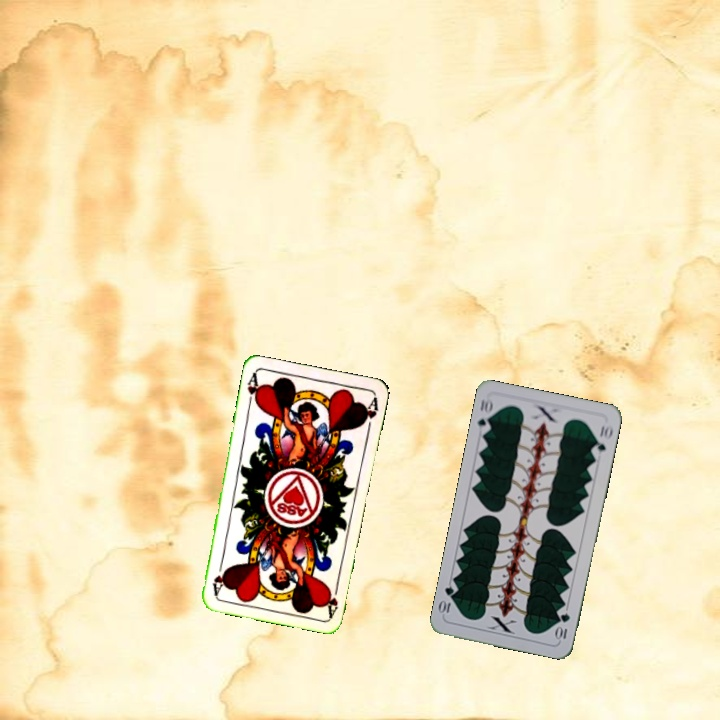G10: (473, 394, 495, 436), (553, 609, 572, 643)
HA: (243, 369, 263, 410), (323, 578, 342, 618)
